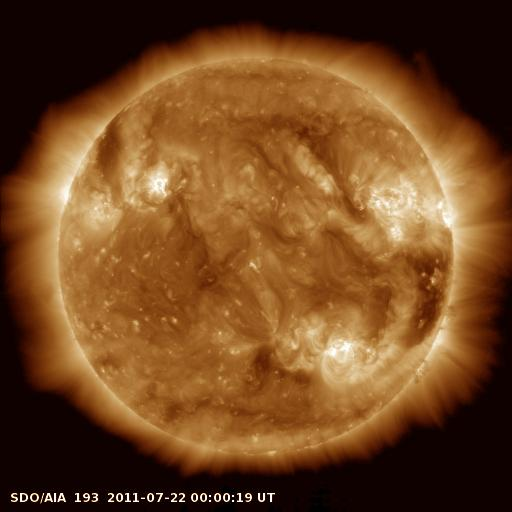coronal_hole: (395, 253, 453, 346)
